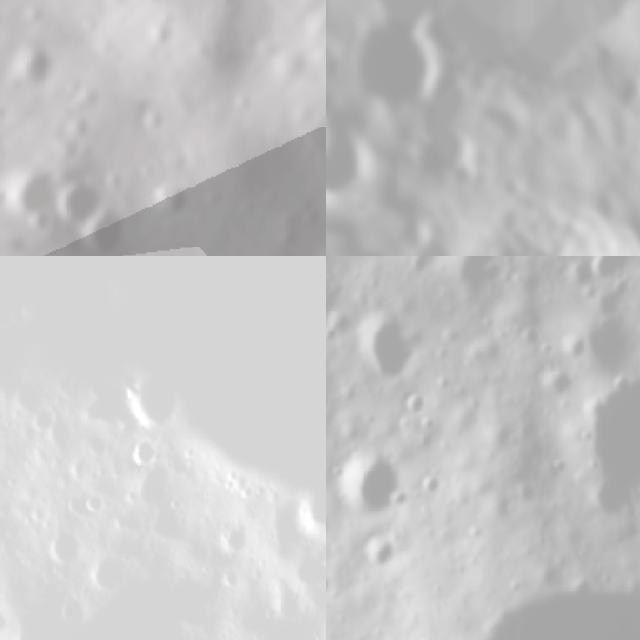crater: (326, 0, 640, 158), (422, 159, 640, 256), (327, 0, 462, 130), (406, 42, 498, 132), (400, 100, 490, 186), (326, 109, 402, 200), (0, 148, 77, 234), (340, 314, 428, 384), (42, 162, 116, 241), (335, 447, 409, 522), (566, 307, 639, 381), (3, 28, 71, 98), (360, 0, 449, 48), (76, 199, 142, 256), (436, 256, 516, 302), (59, 69, 117, 126), (123, 369, 175, 428), (146, 174, 200, 228), (387, 203, 441, 256), (411, 219, 480, 256), (597, 61, 640, 118), (522, 362, 576, 406), (131, 92, 179, 140), (360, 528, 407, 574), (267, 211, 311, 255), (293, 488, 326, 533), (561, 261, 598, 301), (589, 256, 640, 284), (52, 522, 81, 569), (326, 87, 346, 154), (606, 119, 640, 156), (34, 409, 68, 442), (84, 486, 115, 516), (219, 525, 247, 552), (127, 442, 162, 462), (0, 503, 12, 542), (217, 572, 238, 590)
